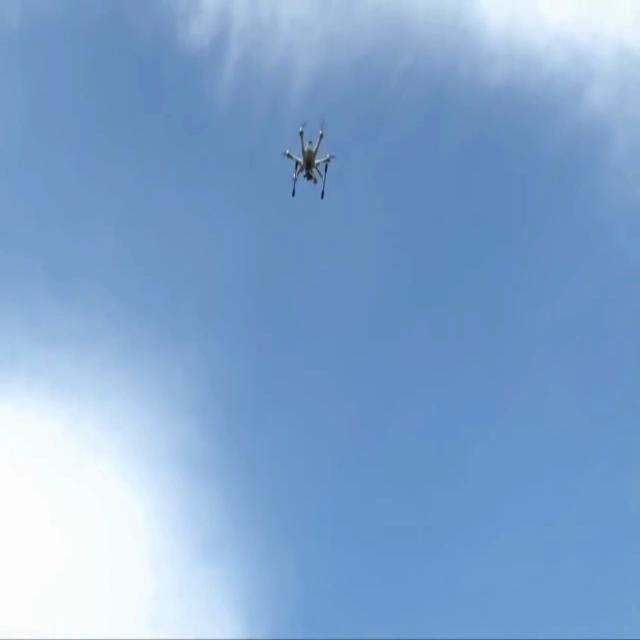drone: (282, 122, 336, 200)
